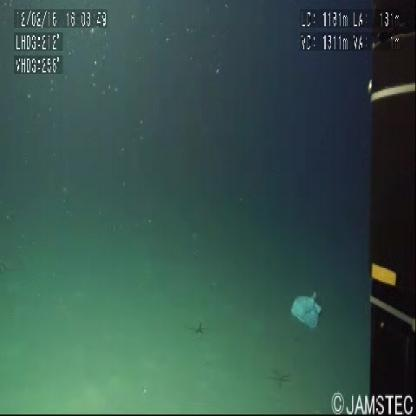Bio: (265, 359, 298, 399), (186, 306, 216, 347)
Rác: (284, 278, 330, 340)
